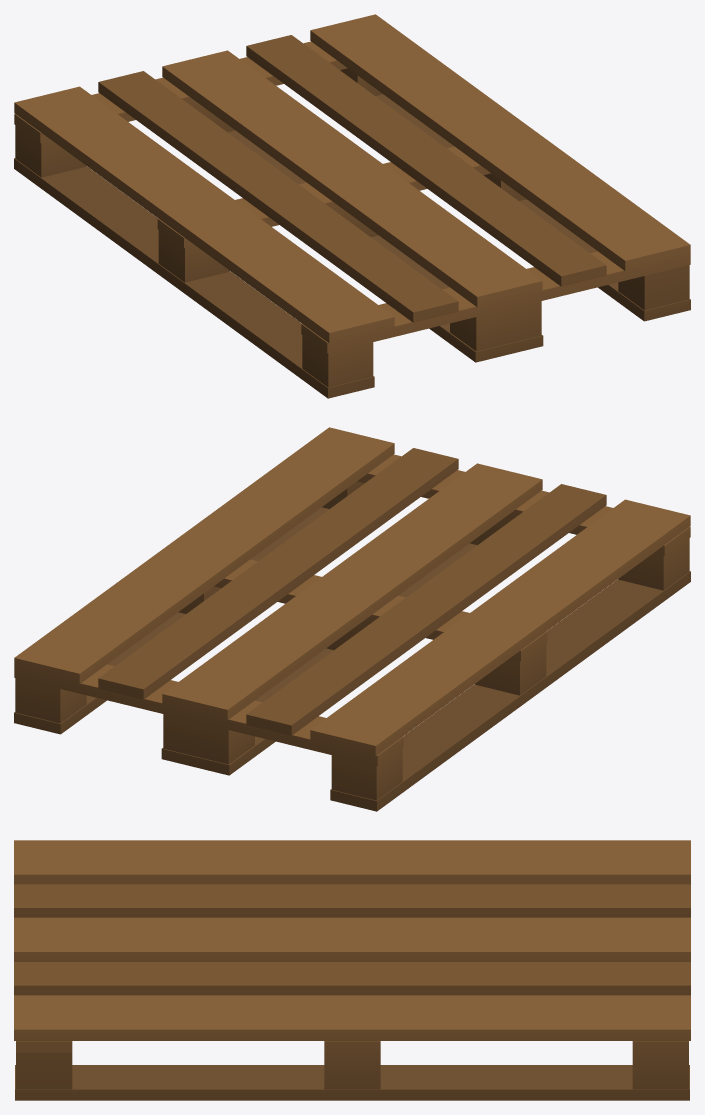
Rendered from Prop_Wooden_Pallet_01.obj.
The picture shows the model from 3 angles, top to bottom: view 1: azimuth 30°, elevation 25°; view 2: azimuth 150°, elevation 25°; view 3: azimuth 270°, elevation 25°; orthographic projection. The views are drawn at different scales.
Parts seen in each view (by area): view 1: Prop_Wooden_Pallet_01; view 2: Prop_Wooden_Pallet_01; view 3: Prop_Wooden_Pallet_01.
Part boxes in pixels (box(x1,y1,x2,y2)): Prop_Wooden_Pallet_01: box(14, 14, 690, 398); Prop_Wooden_Pallet_01: box(14, 427, 690, 811); Prop_Wooden_Pallet_01: box(14, 840, 690, 1100).
Bounding box in the file's own units: 0.8044 × 0.1392 × 1.21.
1 material, 1 textured.
